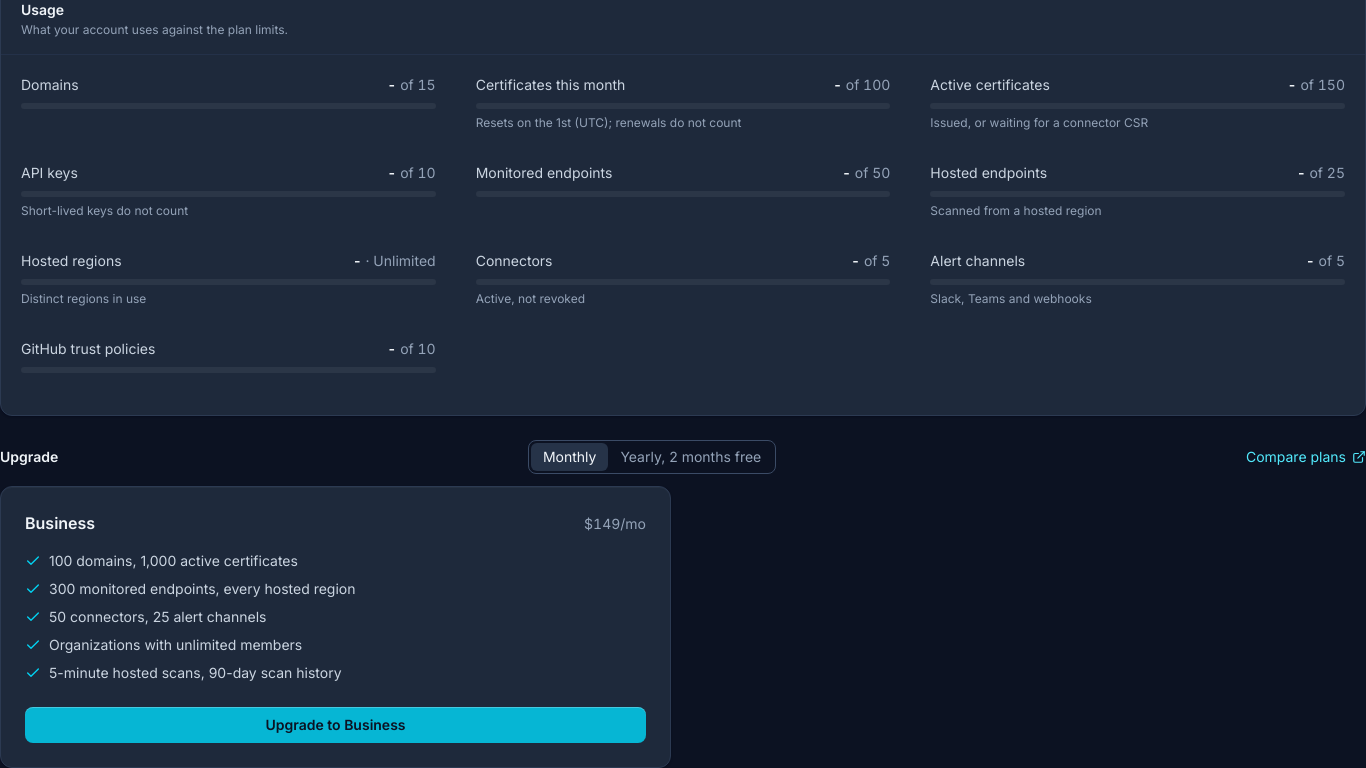
Test: Billing › annual billing › sends the preview proration time and shows a declined payment
The width and height of the screenshot is (1366, 768).
(page scrolled)
Click the button "Upgrade to Business".
click(336, 725)  # box x1=25 y1=707 x2=646 y2=743
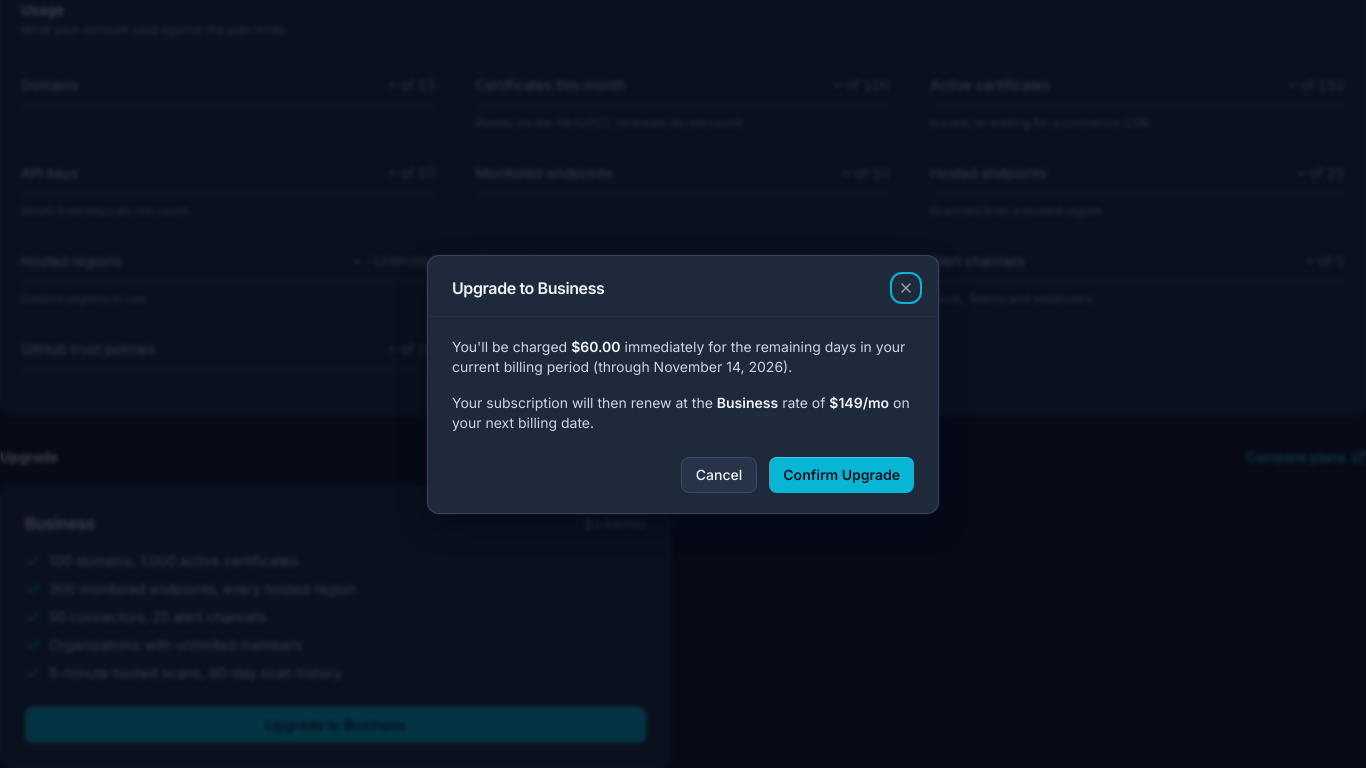
Click the button "Confirm Upgrade".
click(842, 474)  # box x1=769 y1=456 x2=914 y2=492
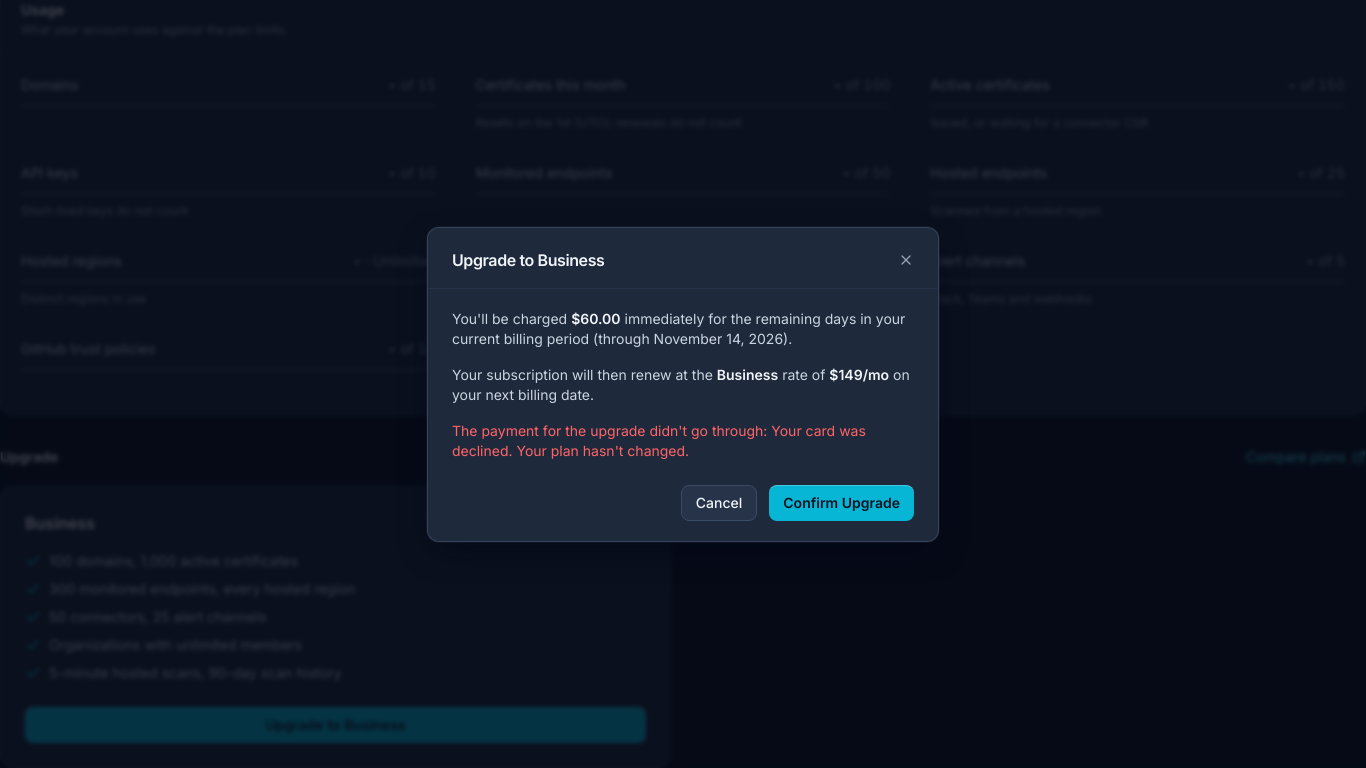
Check: the text "The payment for the upgrade didn't go through: Your card was declined. Your plan hasn't changed." is shown, box x1=452 y1=422 x2=866 y2=458
